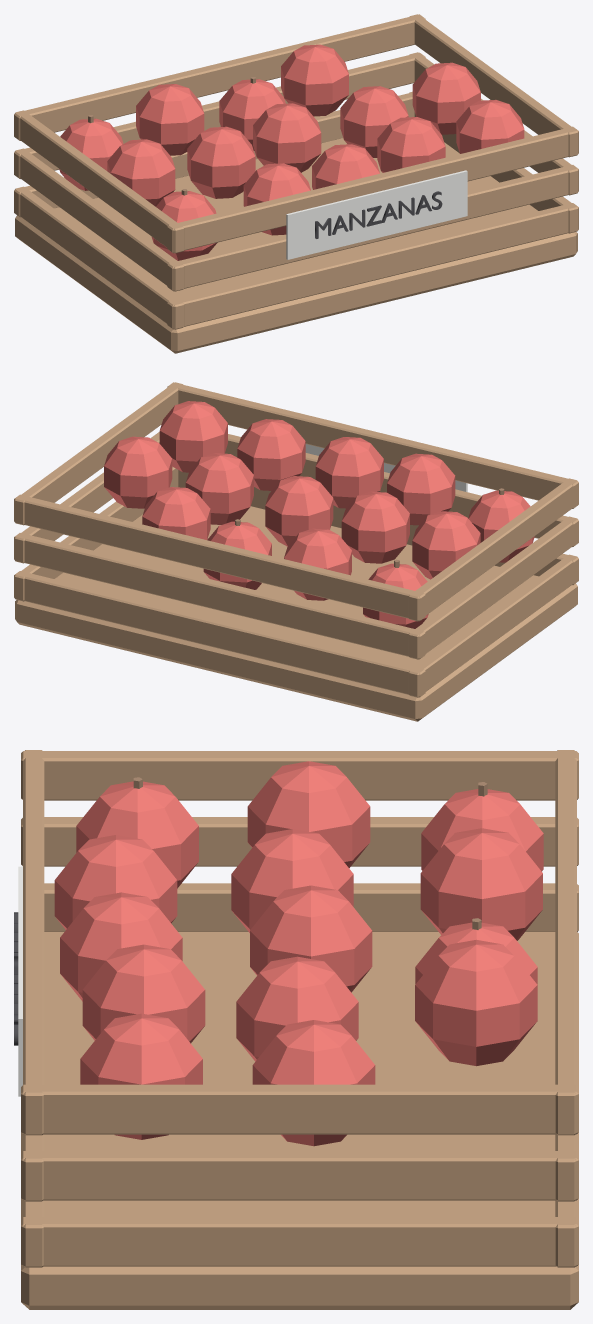
Rendered from Caja_Manzanas.fbx.
3 renders of one model, top to bottom at view 1: azimuth 30°, elevation 25°; view 2: azimuth 150°, elevation 25°; view 3: azimuth 270°, elevation 25°, orthographic. The views are drawn at different scales.
Visible parts, largest first — view 1: Caja_Manzanas | Suelo caja, Caja_Manzanas | Liston caja, Caja_Manzanas | Liston caja.002, Caja_Manzanas | Liston caja.005, Caja_Manzanas | Etiqueta caja, Caja_Manzanas | Liston caja.001, Caja_Manzanas | Liston caja.006, Caja_Manzanas | Liston caja.007, Caja_Manzanas | Liston caja.008, Caja_Manzanas | Liston caja.011, Caja_Manzanas | Manzanas.006, Caja_Manzanas | Manzanas.013 (+17 smaller); view 2: Caja_Manzanas | Suelo caja, Caja_Manzanas | Liston caja.004, Caja_Manzanas | Liston caja.003, Caja_Manzanas | Liston caja.005, Caja_Manzanas | Liston caja.002, Caja_Manzanas | Liston caja.006, Caja_Manzanas | Liston caja.007, Caja_Manzanas | Liston caja.008, Caja_Manzanas | Liston caja.011, Caja_Manzanas | Manzanas.006, Caja_Manzanas | Manzanas.009, Caja_Manzanas | Manzanas.003 (+15 smaller); view 3: Caja_Manzanas | Suelo caja, Caja_Manzanas | Liston caja.011, Caja_Manzanas | Liston caja.010, Caja_Manzanas | Liston caja.009, Caja_Manzanas | Liston caja.008, Caja_Manzanas | Manzanas.013, Caja_Manzanas | Manzanas.011, Caja_Manzanas | Manzanas.007, Caja_Manzanas | Liston caja.005, Caja_Manzanas | Manzanas.005, Caja_Manzanas | Manzanas.003, Caja_Manzanas | Liston caja.002 (+16 smaller).
Part boxes in pixels (<box>): Caja_Manzanas | Suelo caja: <box>15,138,577,353</box>; Caja_Manzanas | Liston caja: <box>167,203,578,329</box>; Caja_Manzanas | Liston caja.002: <box>167,126,578,253</box>; Caja_Manzanas | Liston caja.005: <box>14,14,425,140</box>; Caja_Manzanas | Etiqueta caja: <box>286,170,467,259</box>; Caja_Manzanas | Liston caja.001: <box>167,165,578,291</box>; Caja_Manzanas | Liston caja.006: <box>15,186,184,329</box>; Caja_Manzanas | Liston caja.007: <box>15,148,184,291</box>; Caja_Manzanas | Liston caja.008: <box>15,110,184,253</box>; Caja_Manzanas | Liston caja.011: <box>409,14,578,157</box>; Caja_Manzanas | Manzanas.006: <box>187,126,255,198</box>; Caja_Manzanas | Manzanas.013: <box>281,44,348,116</box>; Caja_Manzanas | Suelo caja: <box>15,506,577,721</box>; Caja_Manzanas | Liston caja.004: <box>14,533,425,659</box>; Caja_Manzanas | Liston caja.003: <box>14,571,425,697</box>; Caja_Manzanas | Liston caja.005: <box>14,494,425,621</box>; Caja_Manzanas | Liston caja.002: <box>167,382,578,508</box>; Caja_Manzanas | Liston caja.006: <box>408,554,577,697</box>; Caja_Manzanas | Liston caja.007: <box>408,516,577,659</box>; Caja_Manzanas | Liston caja.008: <box>408,478,577,621</box>; Caja_Manzanas | Liston caja.011: <box>14,382,183,525</box>; Caja_Manzanas | Manzanas.006: <box>341,491,409,563</box>; Caja_Manzanas | Manzanas.009: <box>104,436,172,508</box>; Caja_Manzanas | Manzanas.003: <box>237,419,305,490</box>; Caja_Manzanas | Suelo caja: <box>21,932,578,1309</box>; Caja_Manzanas | Liston caja.011: <box>21,1084,578,1134</box>; Caja_Manzanas | Liston caja.010: <box>21,1151,578,1200</box>; Caja_Manzanas | Liston caja.009: <box>21,1217,578,1266</box>; Caja_Manzanas | Liston caja.008: <box>21,751,578,800</box>; Caja_Manzanas | Manzanas.013: <box>415,939,537,1066</box>; Caja_Manzanas | Manzanas.011: <box>420,828,542,940</box>; Caja_Manzanas | Manzanas.007: <box>250,885,372,992</box>; Caja_Manzanas | Liston caja.005: <box>555,750,576,1135</box>; Caja_Manzanas | Manzanas.005: <box>247,761,370,868</box>; Caja_Manzanas | Manzanas.003: <box>82,944,205,1043</box>; Caja_Manzanas | Liston caja.002: <box>23,750,44,1135</box>.
Bounding box in the file's own units: 0.95 × 0.328 × 0.658.
